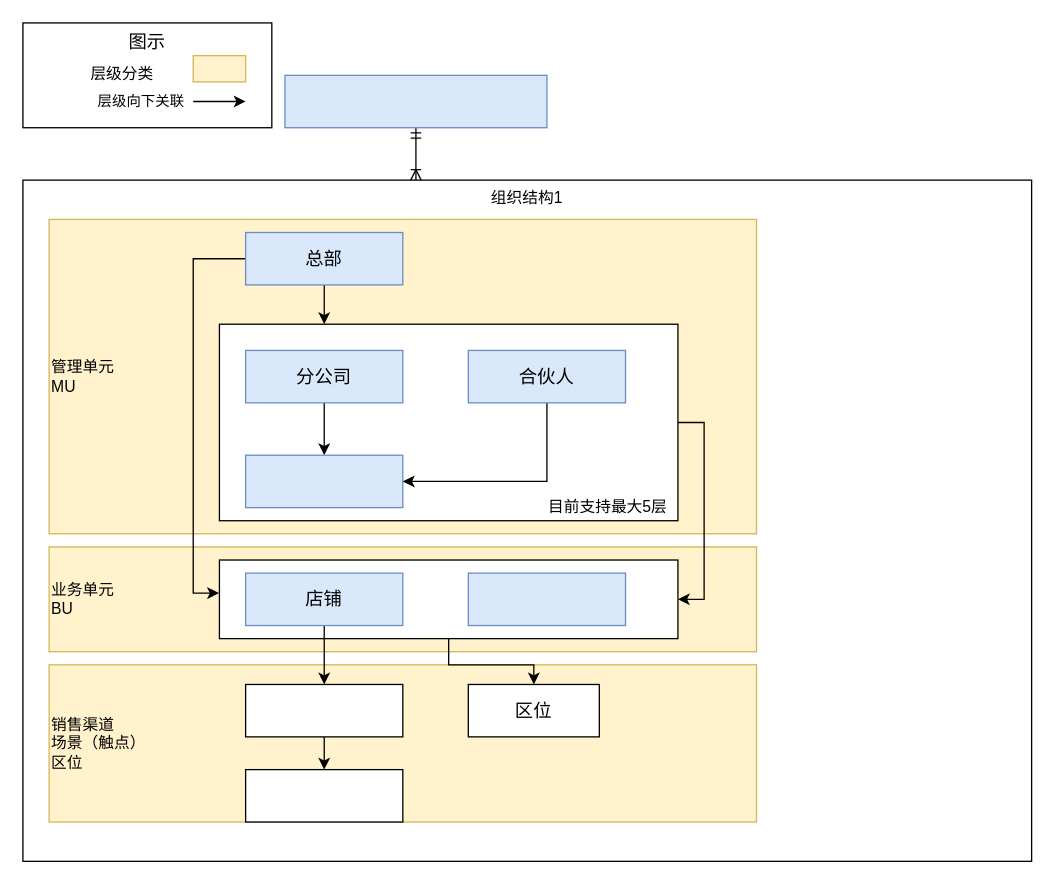
The diagram is 1055 pixels wide and 884 high, and some of its shapes have lost their labels. Each missing label, with the centre of its shape:
"仓库" belongs at pixel 546 599.
"区域组织" belongs at pixel 323 481.
"商家 （目前只在商业化有感知）" belongs at pixel 415 101.
"销售场景 （未实现）" belongs at pixel 323 795.
"销售渠道" belongs at pixel 323 710.
